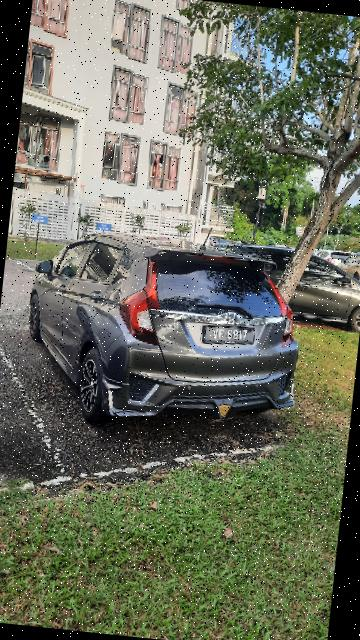License_Plate: (203, 323, 262, 353)
car: (21, 220, 314, 444)
